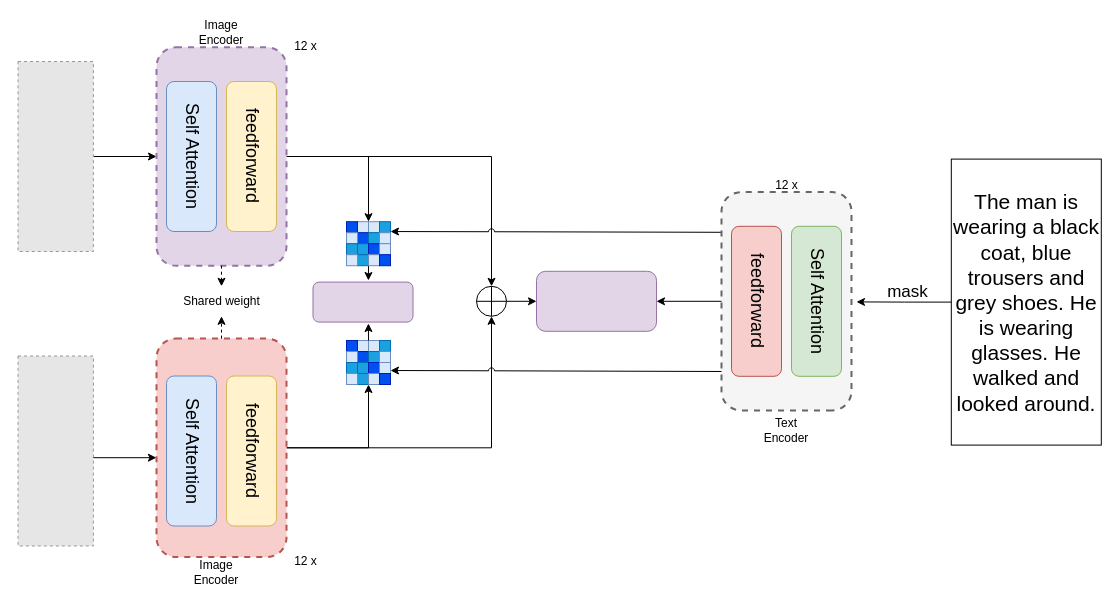
This 1119x604 diagram has some shape labels left out. Grey dashed boxes stand in for pictures. The centre of each missing label's shape, as x and y in pixels:
KL Loss: (x=362, y=301)
Sdm Loss: (x=596, y=300)
